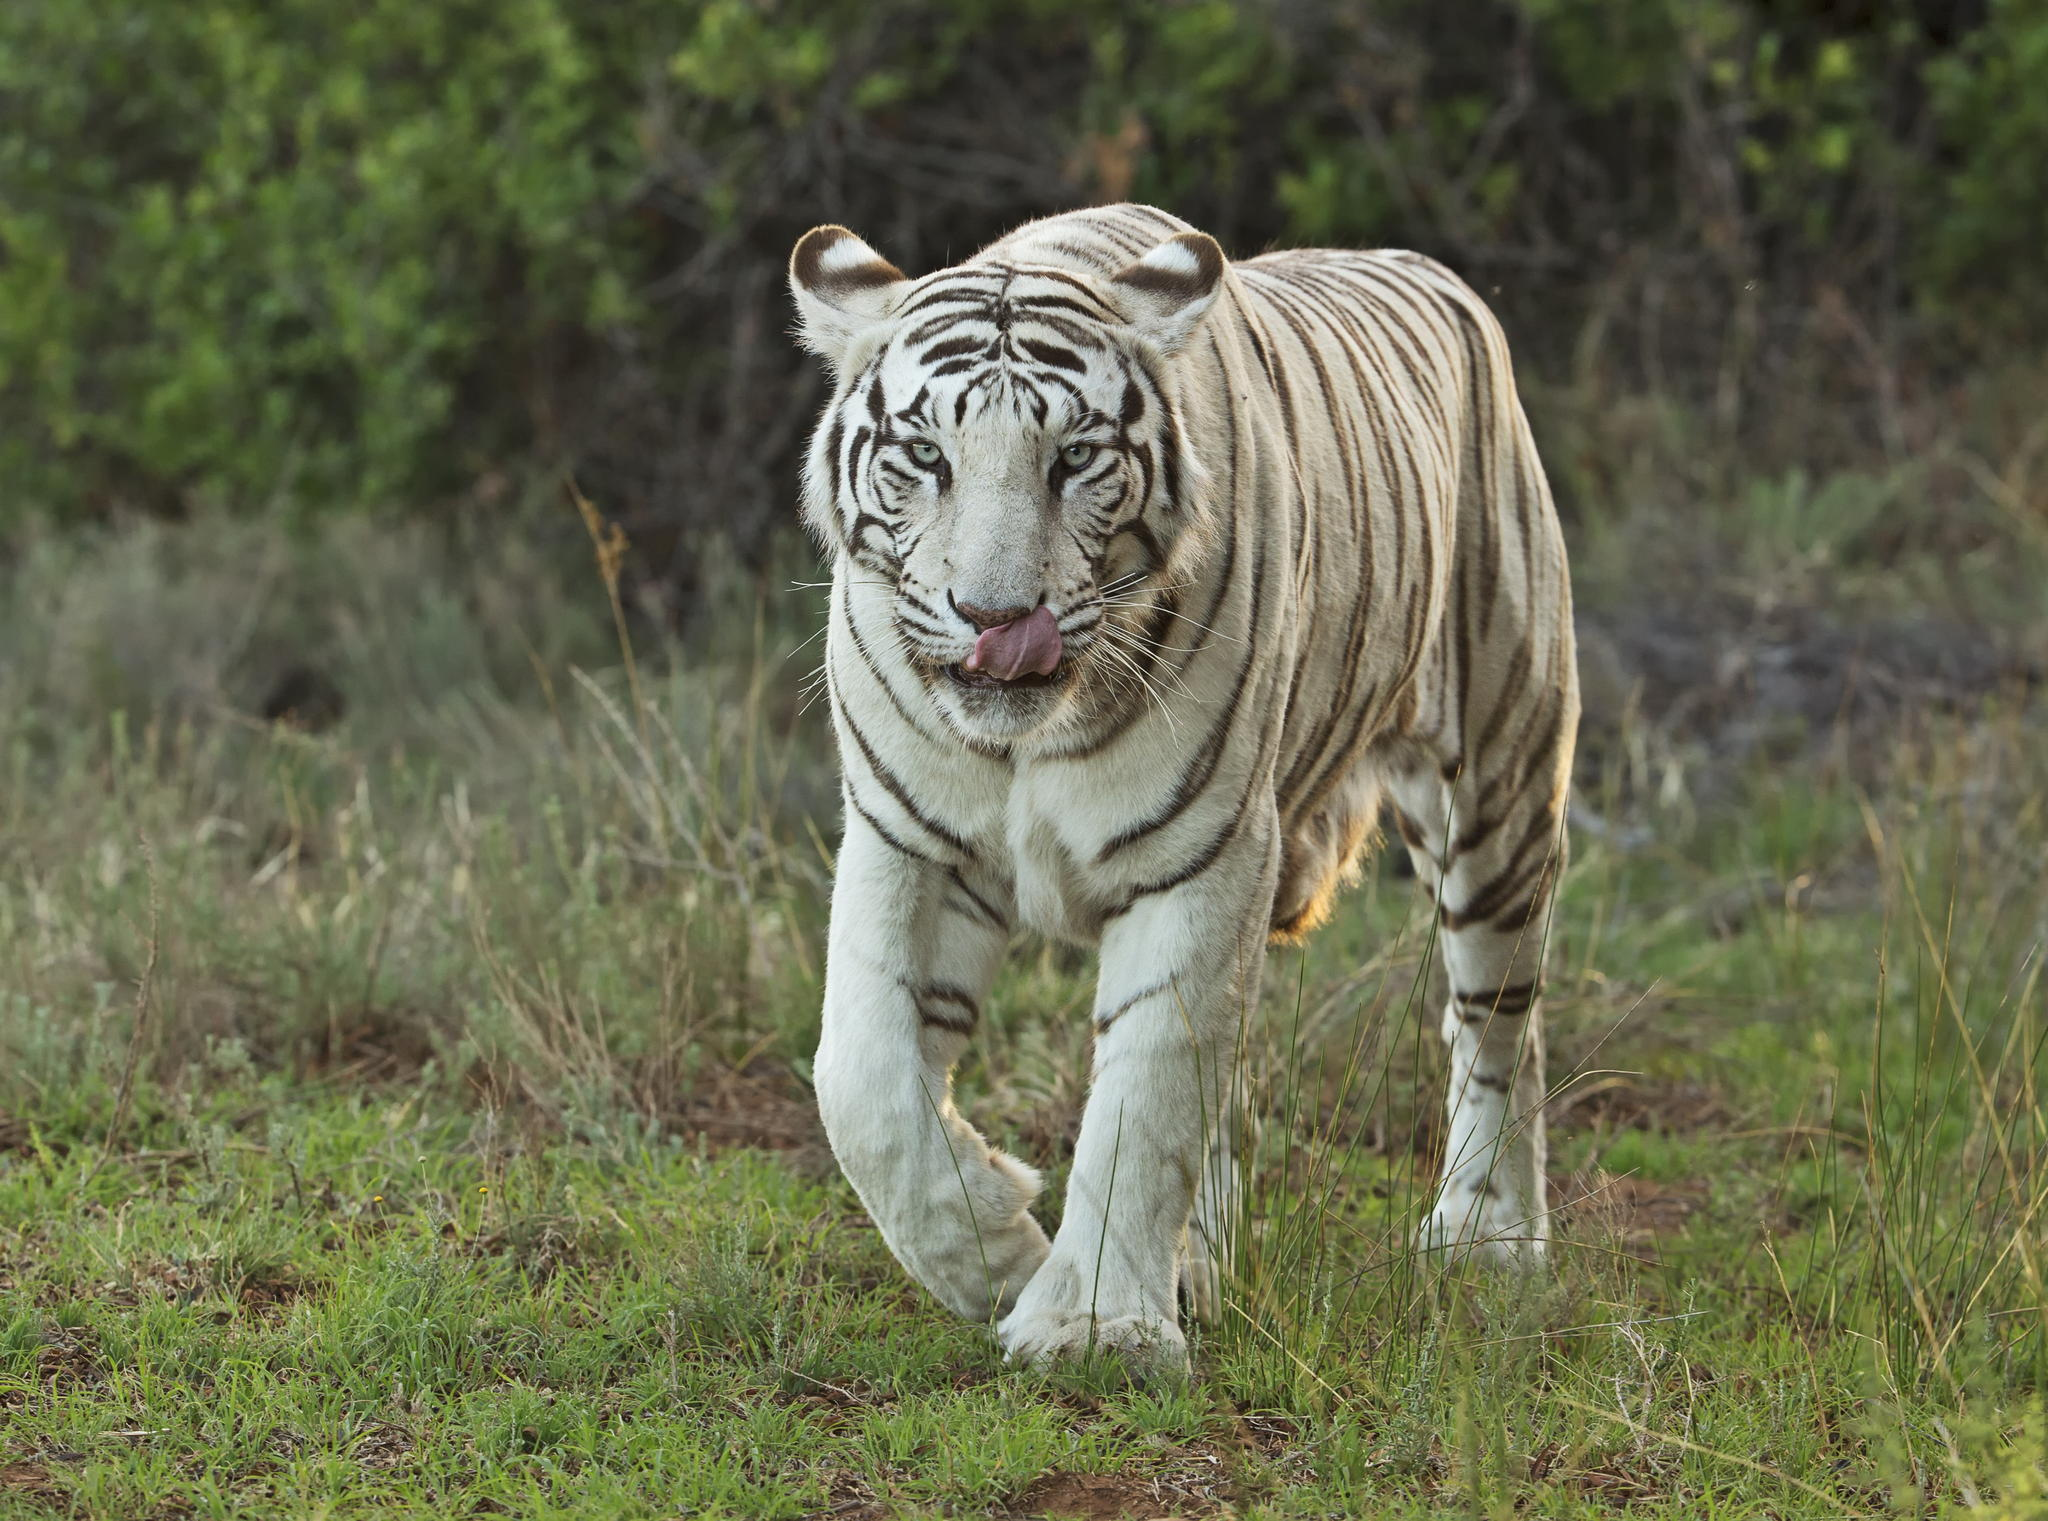tiger: (733, 192, 1644, 1404)
